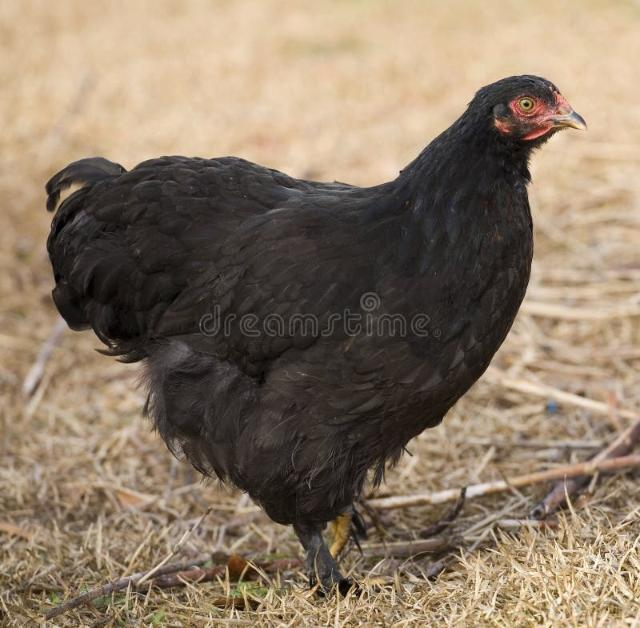Chicken: (43, 71, 589, 597)
